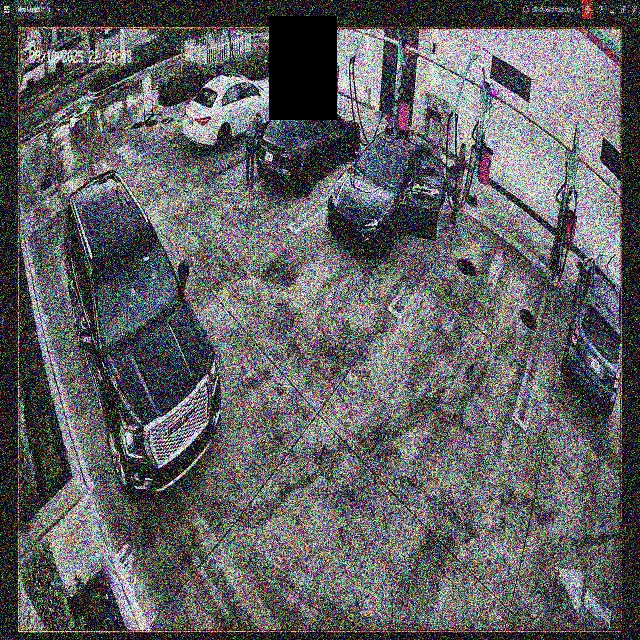Car: (64, 170, 221, 494), (327, 126, 452, 263), (259, 99, 360, 192), (183, 76, 285, 145)
